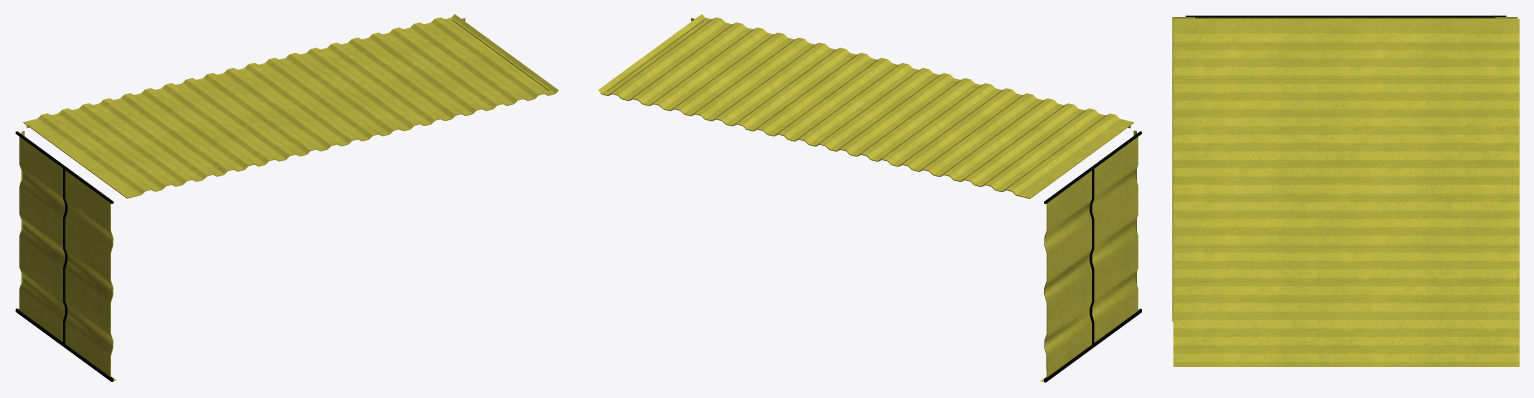
File: rear-top-sprayfoam.glb
3 renders of one model, left to right at view 1: azimuth 30°, elevation 25°; view 2: azimuth 150°, elevation 25°; view 3: azimuth 270°, elevation 25°, orthographic. The views are drawn at different scales.
Visible parts, largest first — view 1: 20FT Sprayfoam_Ceiling, 20FT Sprayfoam_RearTop; view 2: 20FT Sprayfoam_Ceiling, 20FT Sprayfoam_RearTop; view 3: 20FT Sprayfoam_Ceiling, 20FT Sprayfoam_RearTop.
Boxes of the visible parts, box(x1,y1,x2,y2) form: 20FT Sprayfoam_Ceiling: box(19, 14, 558, 380); 20FT Sprayfoam_RearTop: box(15, 131, 113, 381); 20FT Sprayfoam_Ceiling: box(598, 14, 1138, 381); 20FT Sprayfoam_RearTop: box(1044, 131, 1141, 382); 20FT Sprayfoam_Ceiling: box(1172, 14, 1519, 366); 20FT Sprayfoam_RearTop: box(1185, 15, 1506, 17).
Size of the model in its own units: 5.97 by 2.36 by 2.37.
2 materials, 1 textured.
